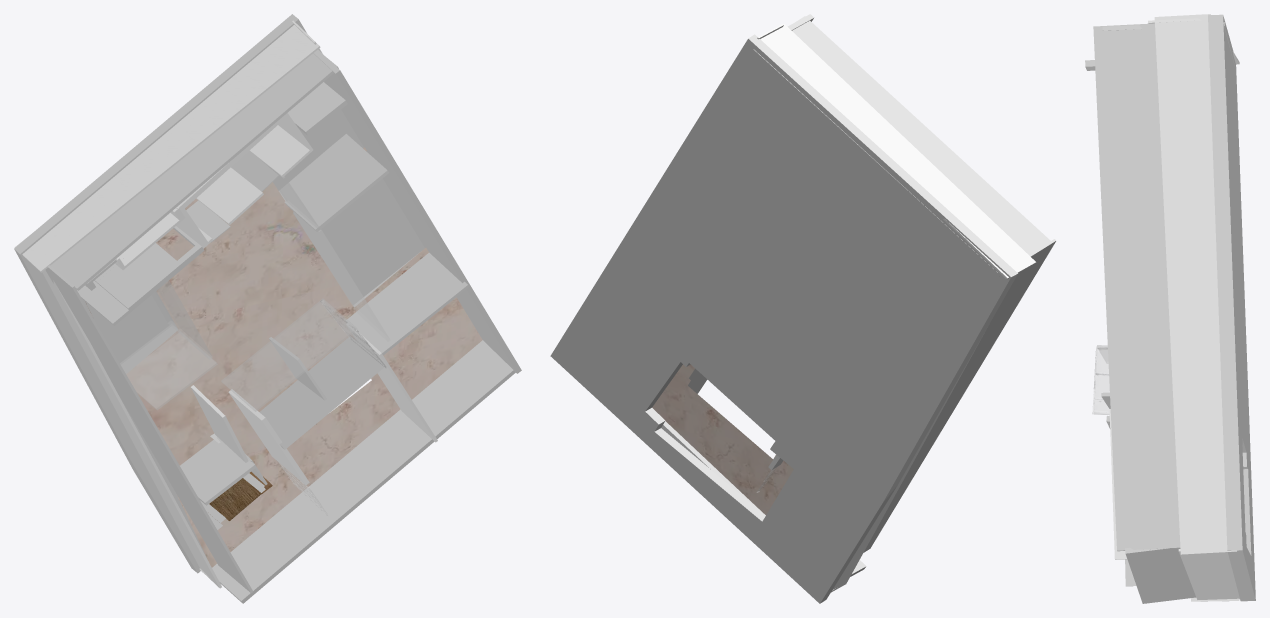
Rendered from 2nd_floor_base_wall.glb.
3 renders of one model, left to right at view 1: azimuth 30°, elevation 25°; view 2: azimuth 150°, elevation 25°; view 3: azimuth 270°, elevation 25°, orthographic. The views are drawn at different scales.
Visible parts, largest first — view 1: Cube.047, Geom3D.379, Cube.046, Mesh_0.020, Cube.049, Geom3D.269; view 2: Cube.047, Cube.046, Geom3D.379; view 3: Cube.047, Cube.046, Mesh_0.020.
Boxes of the visible parts, x1,y1,x2,y2 form: Cube.047: (14, 14, 521, 603); Geom3D.379: (85, 147, 482, 567); Cube.046: (14, 20, 437, 588); Mesh_0.020: (120, 161, 386, 411); Cube.049: (293, 211, 389, 341); Geom3D.269: (209, 478, 261, 520); Cube.047: (550, 14, 1056, 603); Cube.046: (688, 24, 1036, 592); Geom3D.379: (652, 364, 793, 514); Cube.047: (1085, 14, 1255, 603); Cube.046: (1109, 14, 1239, 601); Mesh_0.020: (1092, 345, 1109, 414).
Size of the model in its own units: 0.7629 by 0.8512 by 0.2069.
7 materials, 3 textured.
